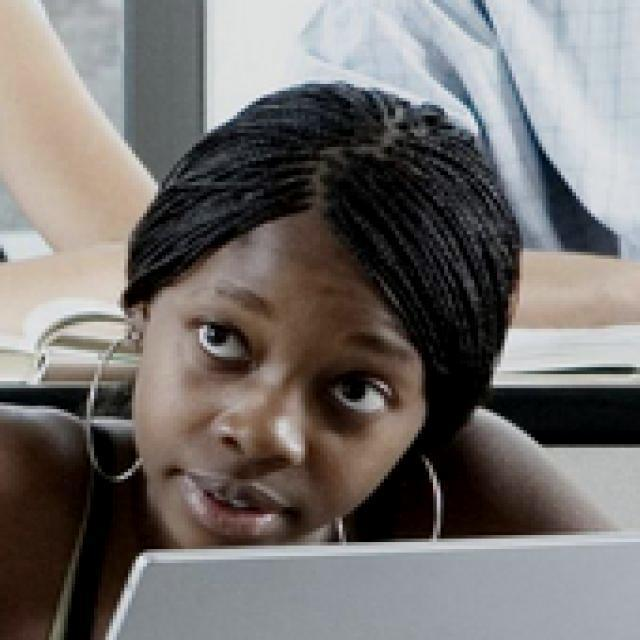Looking forward: (129, 218, 433, 548)
